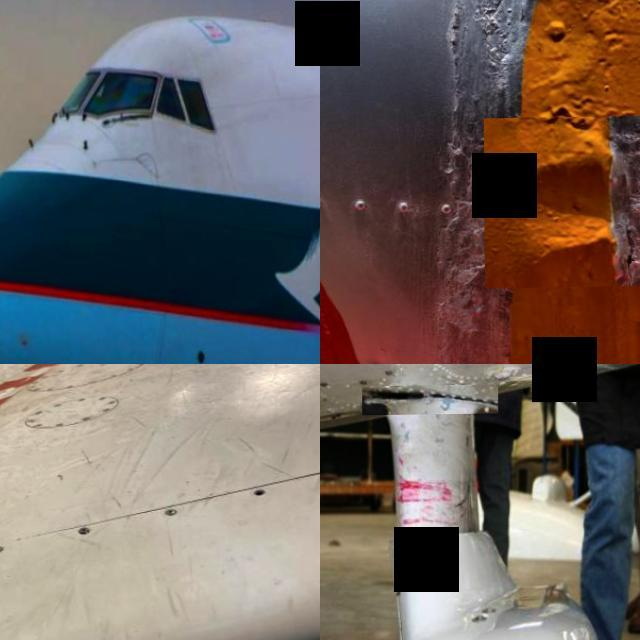Crack: (363, 387, 498, 415)
Dent: (483, 117, 640, 289)
Missing_Fastener: (249, 488, 271, 502)
